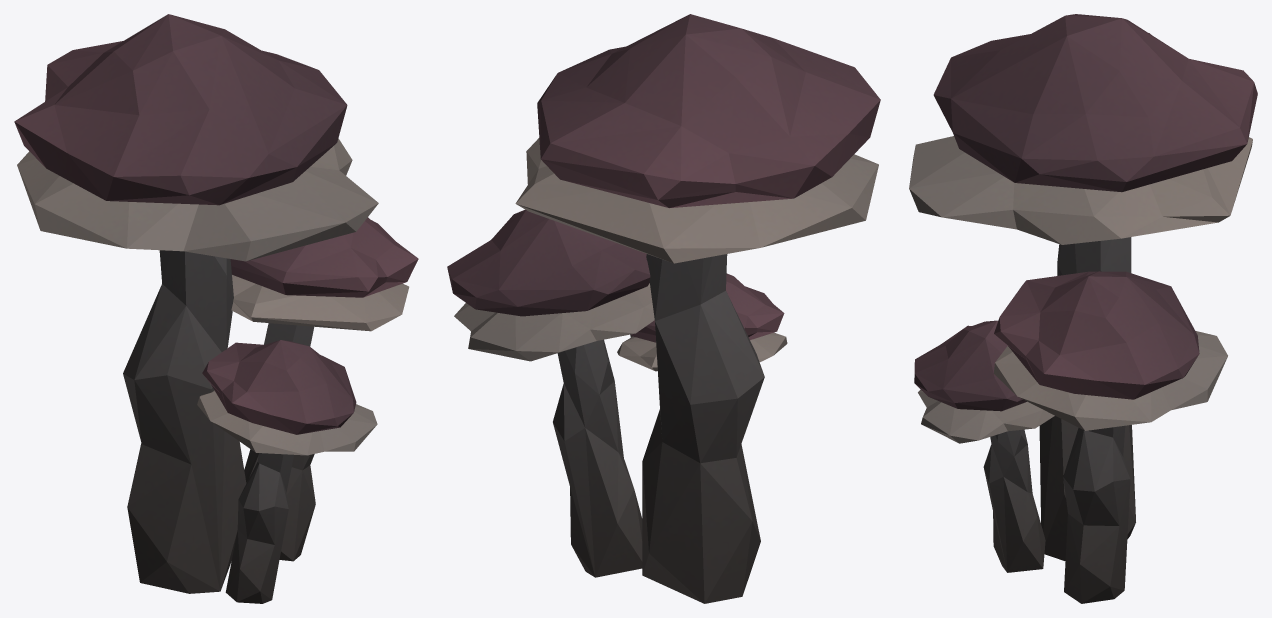
The model's file is Mush_2A.fbx.
3 renders of one model, left to right at view 1: azimuth 30°, elevation 25°; view 2: azimuth 150°, elevation 25°; view 3: azimuth 270°, elevation 25°, orthographic. The views are drawn at different scales.
Parts seen in each view (by area): view 1: polySurface1317; view 2: polySurface1317; view 3: polySurface1317.
Boxes of the visible parts, x1,y1,x2,y2 form: polySurface1317: (14,14,418,603); polySurface1317: (447,14,880,603); polySurface1317: (909,14,1257,603).
Bounding box in the file's own units: 1.73 × 2.46 × 1.45.
